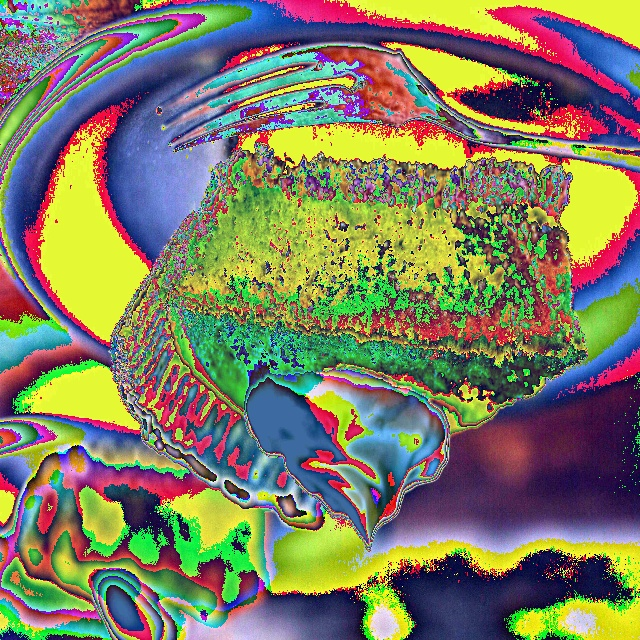background: (0, 143, 589, 639)
